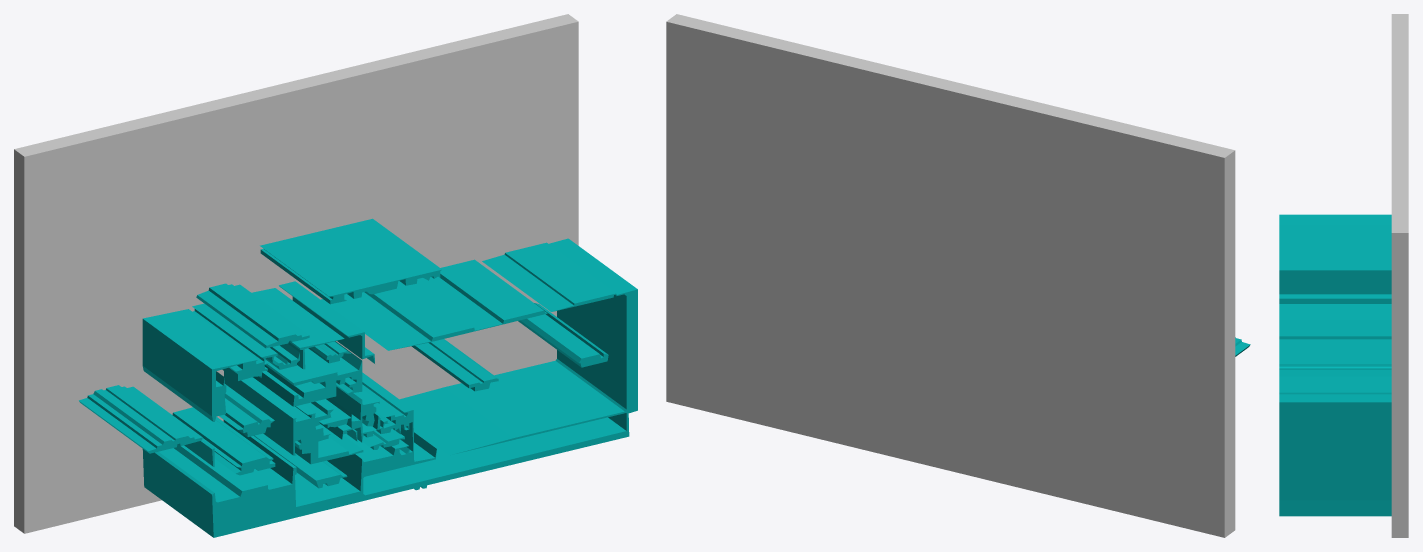
3 views of the same model, side by side, from view 1: azimuth 30°, elevation 25°; view 2: azimuth 150°, elevation 25°; view 3: azimuth 270°, elevation 25° (orthographic). The views are drawn at different scales.
Visible parts, largest first — view 1: world; view 2: world; view 3: world.
Boxes of the visible parts, left/top/right/bottom form: world: left=14, top=14, right=637, bottom=537; world: left=666, top=14, right=1250, bottom=537; world: left=1279, top=14, right=1408, bottom=537.
Bounding box in the file's own units: 4.6 × 2.99 × 1.15.
